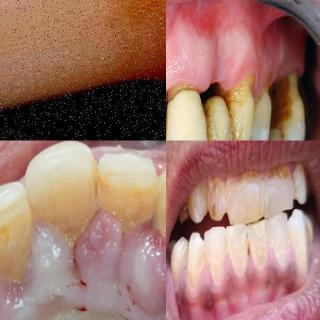Gum Swelling: (0, 213, 166, 320), (166, 58, 246, 91), (247, 62, 271, 99)
calculus: (34, 146, 98, 244), (96, 155, 154, 238), (0, 191, 35, 289), (208, 237, 230, 288), (188, 238, 208, 289), (208, 176, 230, 220), (230, 236, 251, 282), (271, 221, 289, 272), (292, 228, 308, 282), (252, 235, 268, 279)
cavities: (25, 0, 166, 76)
maligned: (220, 166, 262, 218), (285, 203, 311, 284), (256, 163, 295, 217)
stains: (272, 79, 300, 139), (230, 82, 252, 140), (201, 98, 229, 140)
